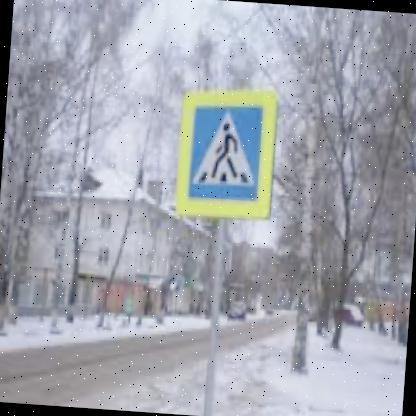crosswalk: (186, 103, 262, 202)
